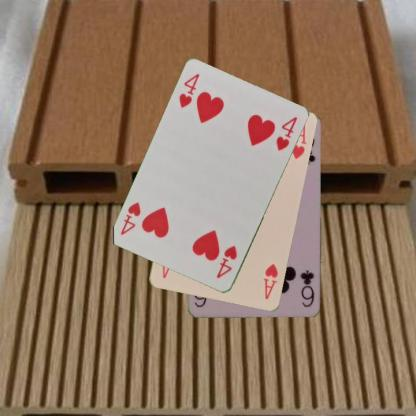4h: (176, 71, 201, 110), (214, 243, 238, 280)
6c: (298, 268, 316, 310)
Ah: (261, 261, 280, 301)
